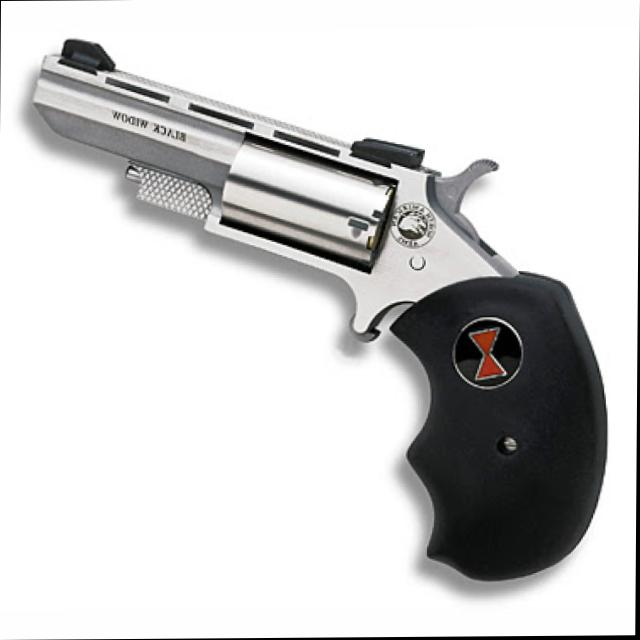handgun: (29, 37, 606, 594)
